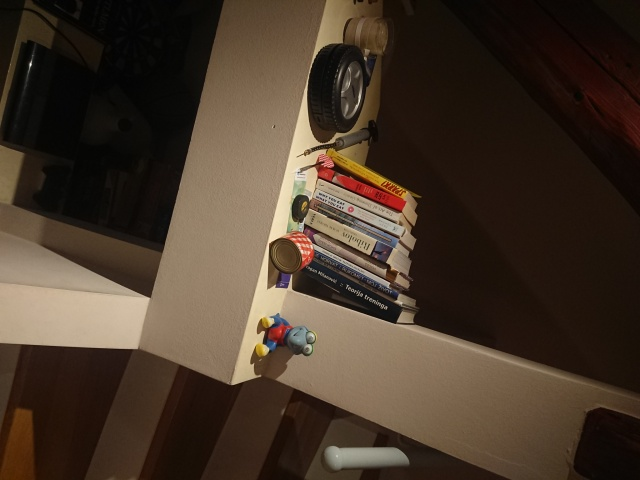Podravka Luncheon Meat 150g: (268, 229, 316, 276)
